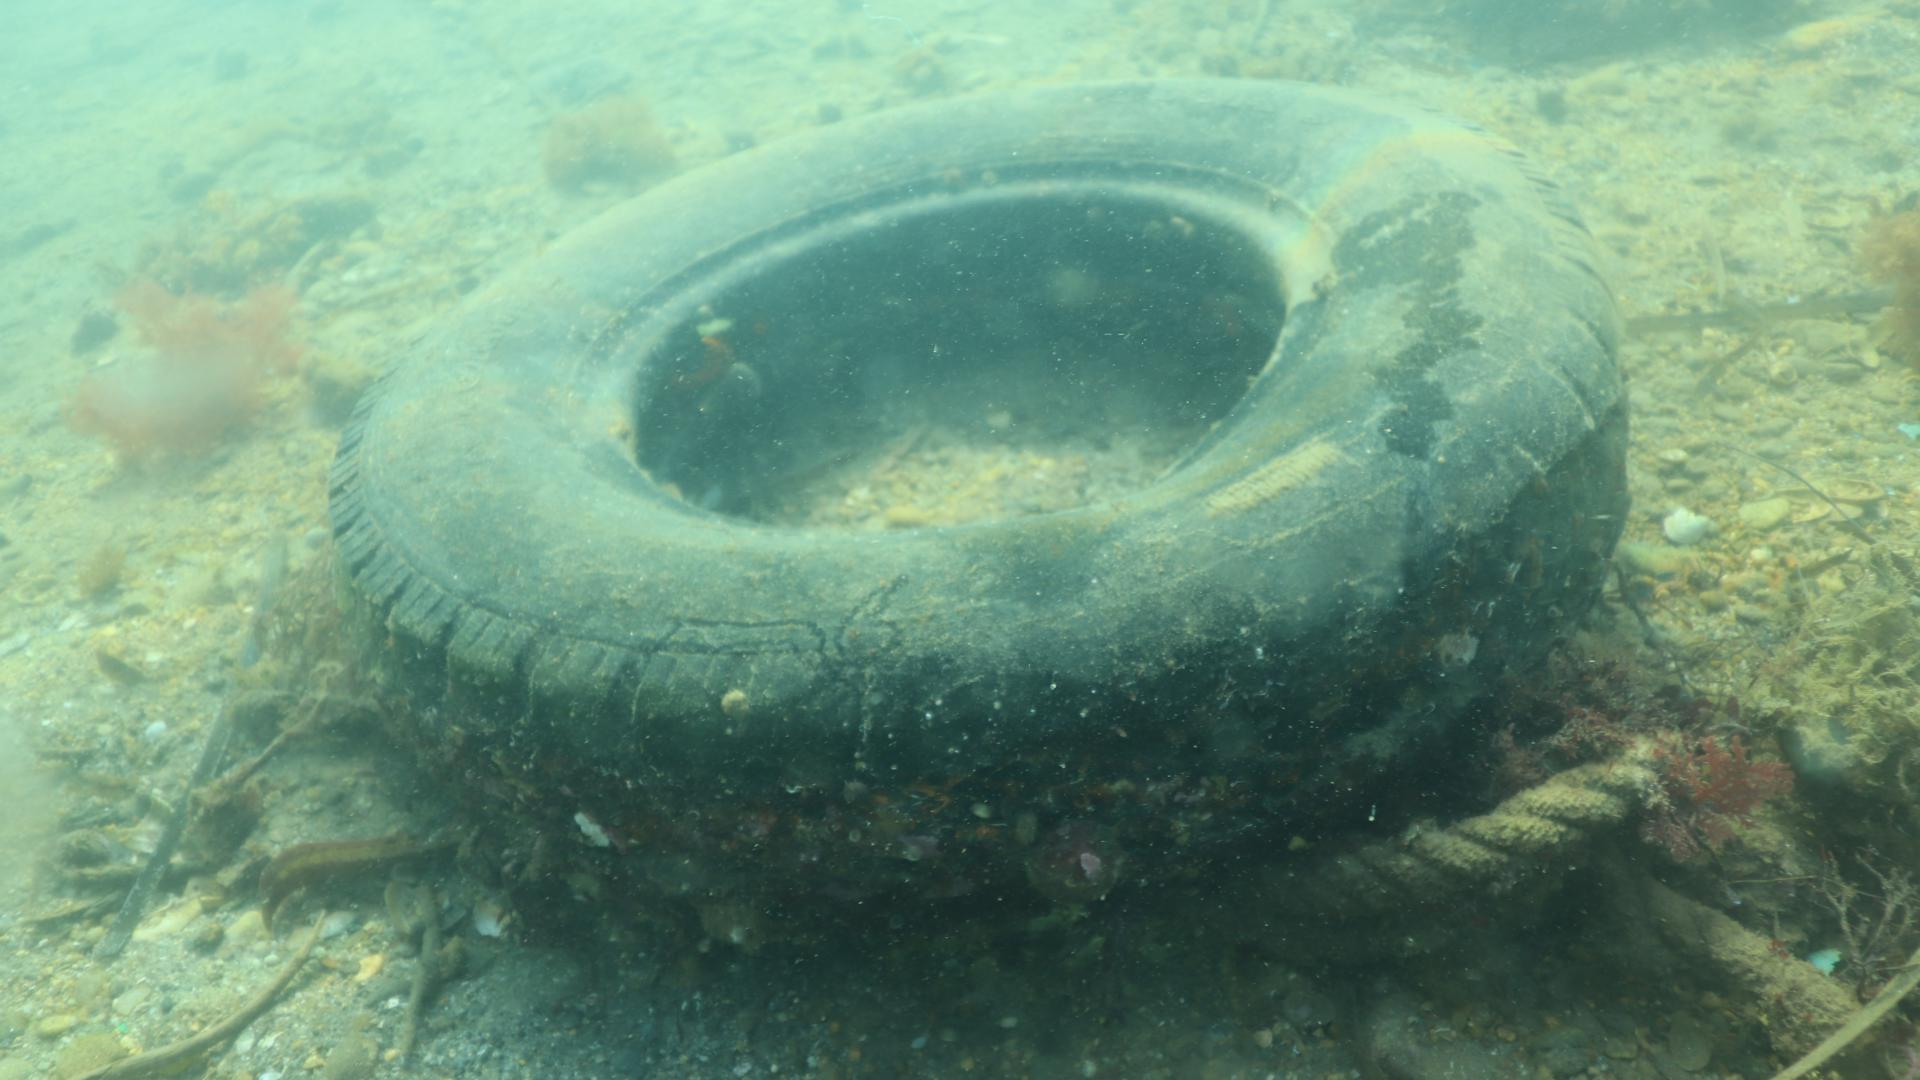rope: (1309, 742, 1651, 899)
tire: (327, 74, 1623, 899)
